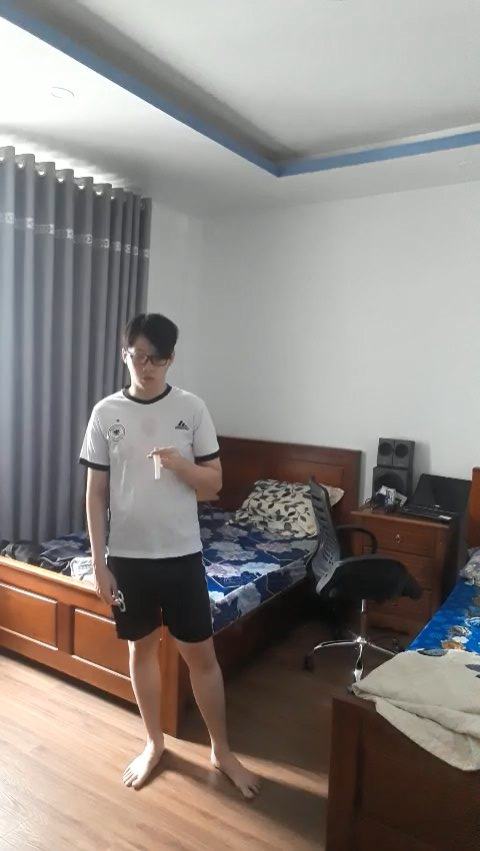cigarette: (153, 453, 163, 481)
person: (59, 303, 274, 805)
